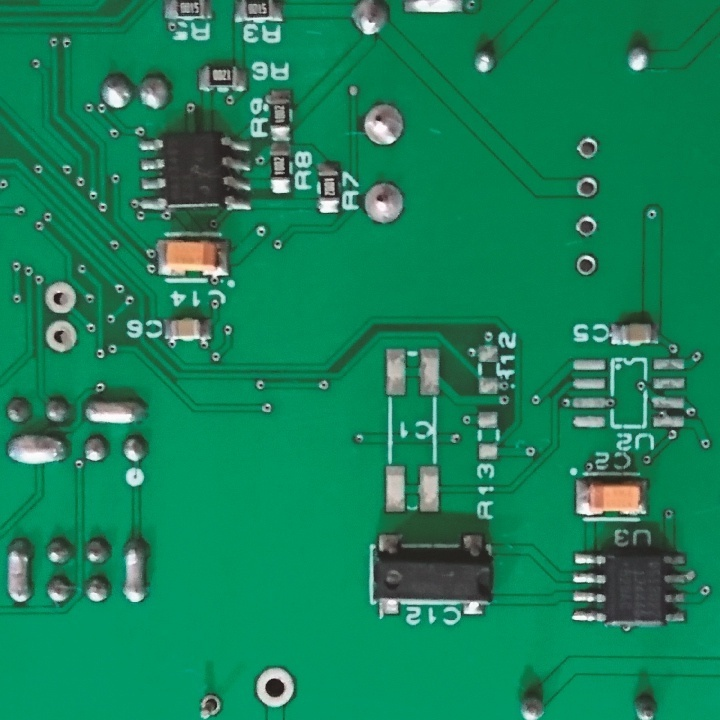F: (360, 179, 409, 228), (359, 100, 407, 148), (252, 664, 297, 707), (42, 318, 81, 358), (43, 278, 78, 315), (196, 690, 226, 720), (573, 211, 599, 240), (574, 174, 601, 201), (573, 251, 598, 278), (576, 136, 602, 160)
P: (4, 533, 41, 608), (5, 433, 69, 468), (81, 395, 150, 426), (121, 536, 151, 605)
